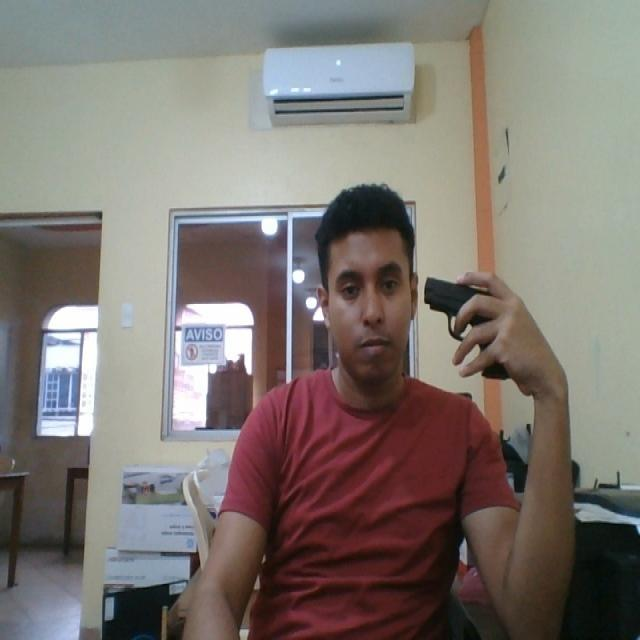weapon: (423, 274, 512, 381)
